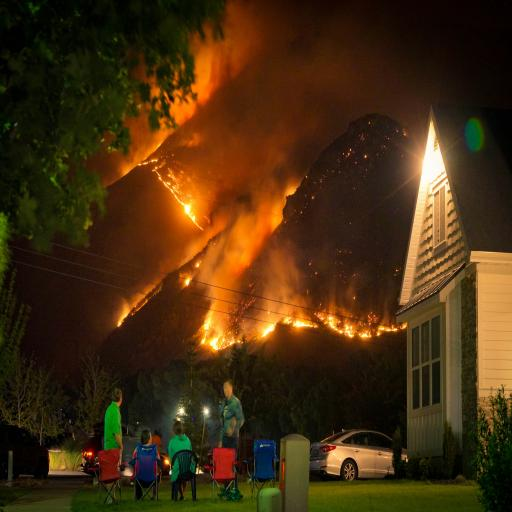wildfire: (106, 45, 396, 363)
